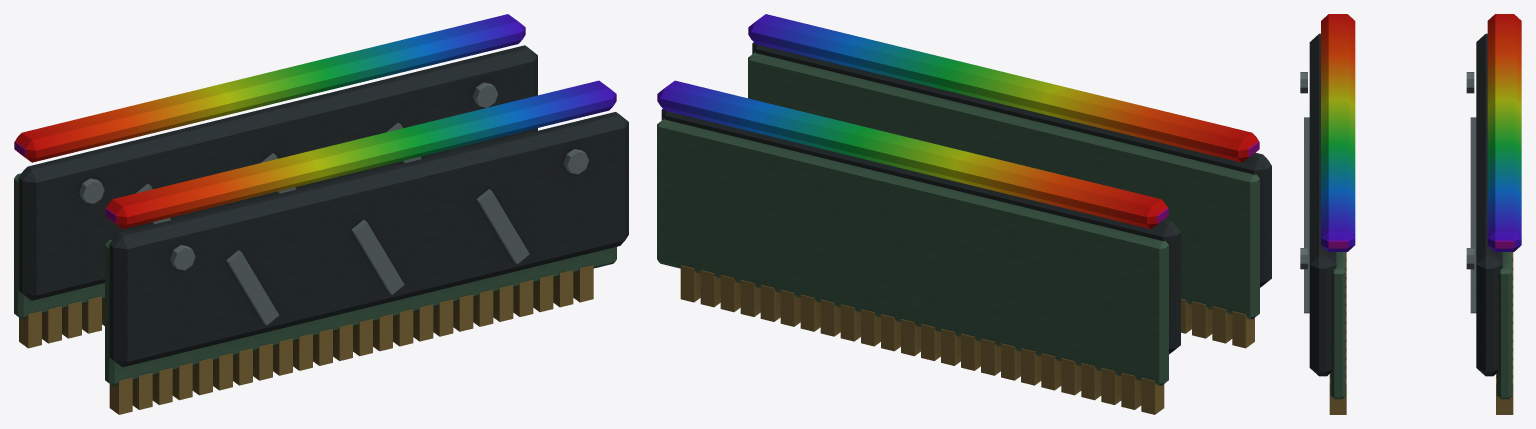
The model's file is ram_pair.obj.
The picture shows the model from 3 angles, left to right: view 1: azimuth 30°, elevation 25°; view 2: azimuth 150°, elevation 25°; view 3: azimuth 270°, elevation 25°; orthographic projection. The views are drawn at different scales.
Visible parts, largest first — view 1: ram_pair_static_0, ram_pair_rgb_0_1, ram_pair_rgb_1_2; view 2: ram_pair_static_0, ram_pair_rgb_0_1, ram_pair_rgb_1_2; view 3: ram_pair_static_0, ram_pair_rgb_0_1, ram_pair_rgb_1_2.
Part boxes in pixels (x1=…): ram_pair_static_0: x1=14, y1=45, x2=628, y2=414; ram_pair_rgb_0_1: x1=105, y1=80, x2=616, y2=228; ram_pair_rgb_1_2: x1=14, y1=14, x2=525, y2=162; ram_pair_static_0: x1=657, y1=42, x2=1271, y2=414; ram_pair_rgb_0_1: x1=748, y1=14, x2=1259, y2=162; ram_pair_rgb_1_2: x1=657, y1=80, x2=1168, y2=228; ram_pair_static_0: x1=1300, y1=33, x2=1513, y2=414; ram_pair_rgb_0_1: x1=1321, y1=14, x2=1355, y2=251; ram_pair_rgb_1_2: x1=1487, y1=14, x2=1521, y2=251.
Size of the model in its own units: 0.144 by 0.0555 by 0.0585.
3 materials, 3 textured.
